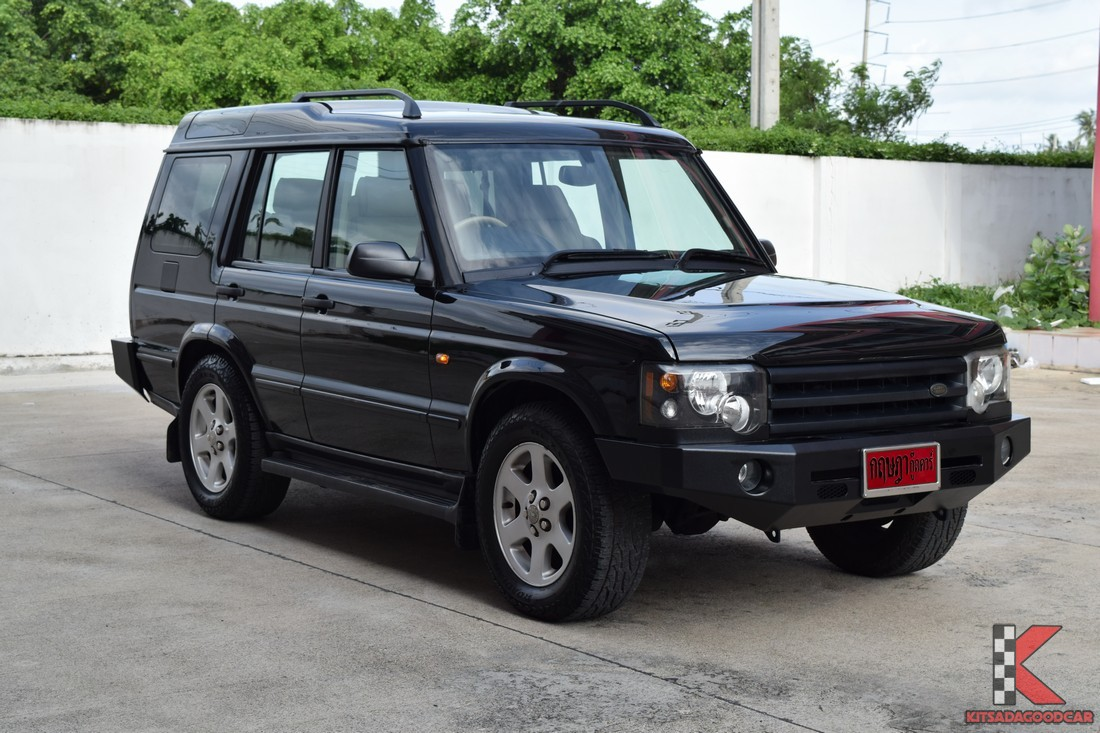pickup: (111, 87, 1031, 621)
